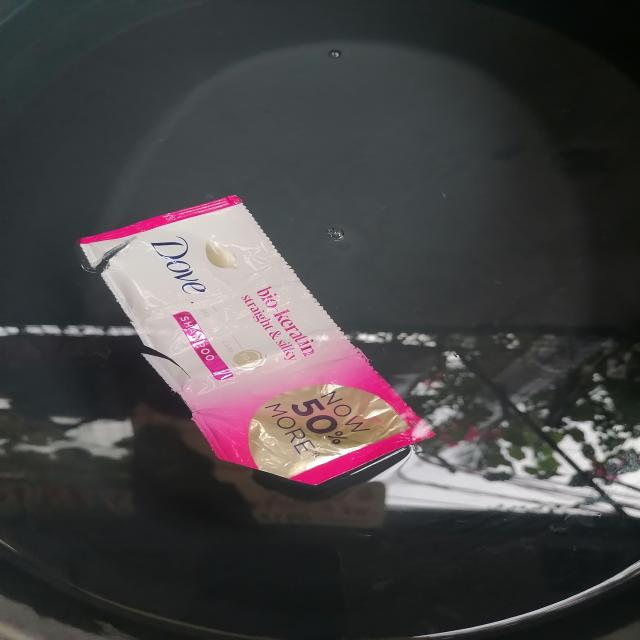Plastic Wrapper: (79, 195, 433, 494)
